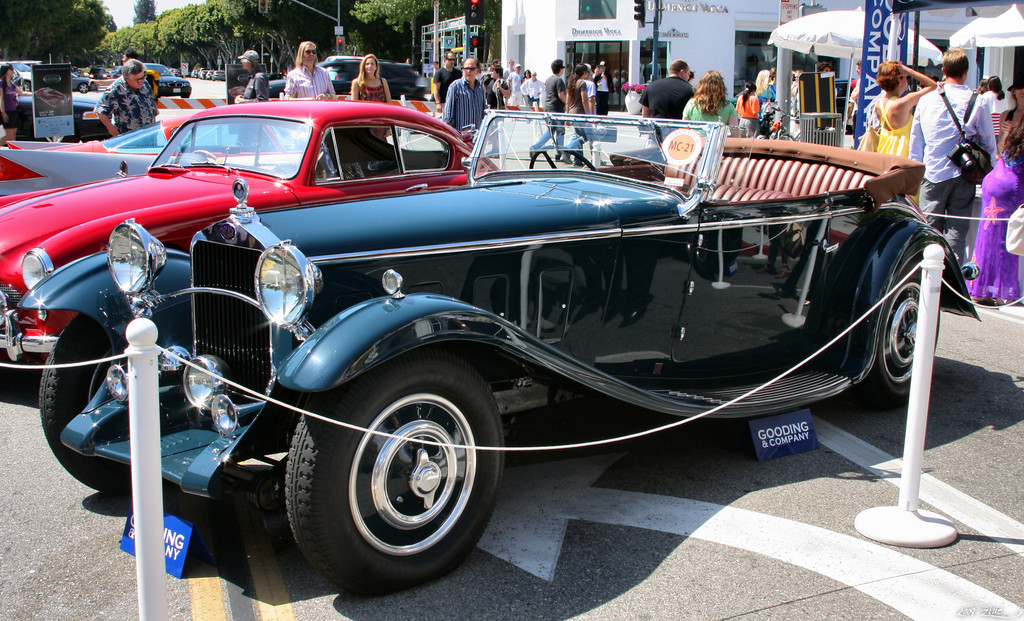Car: (0, 105, 992, 585), (0, 95, 487, 390)
